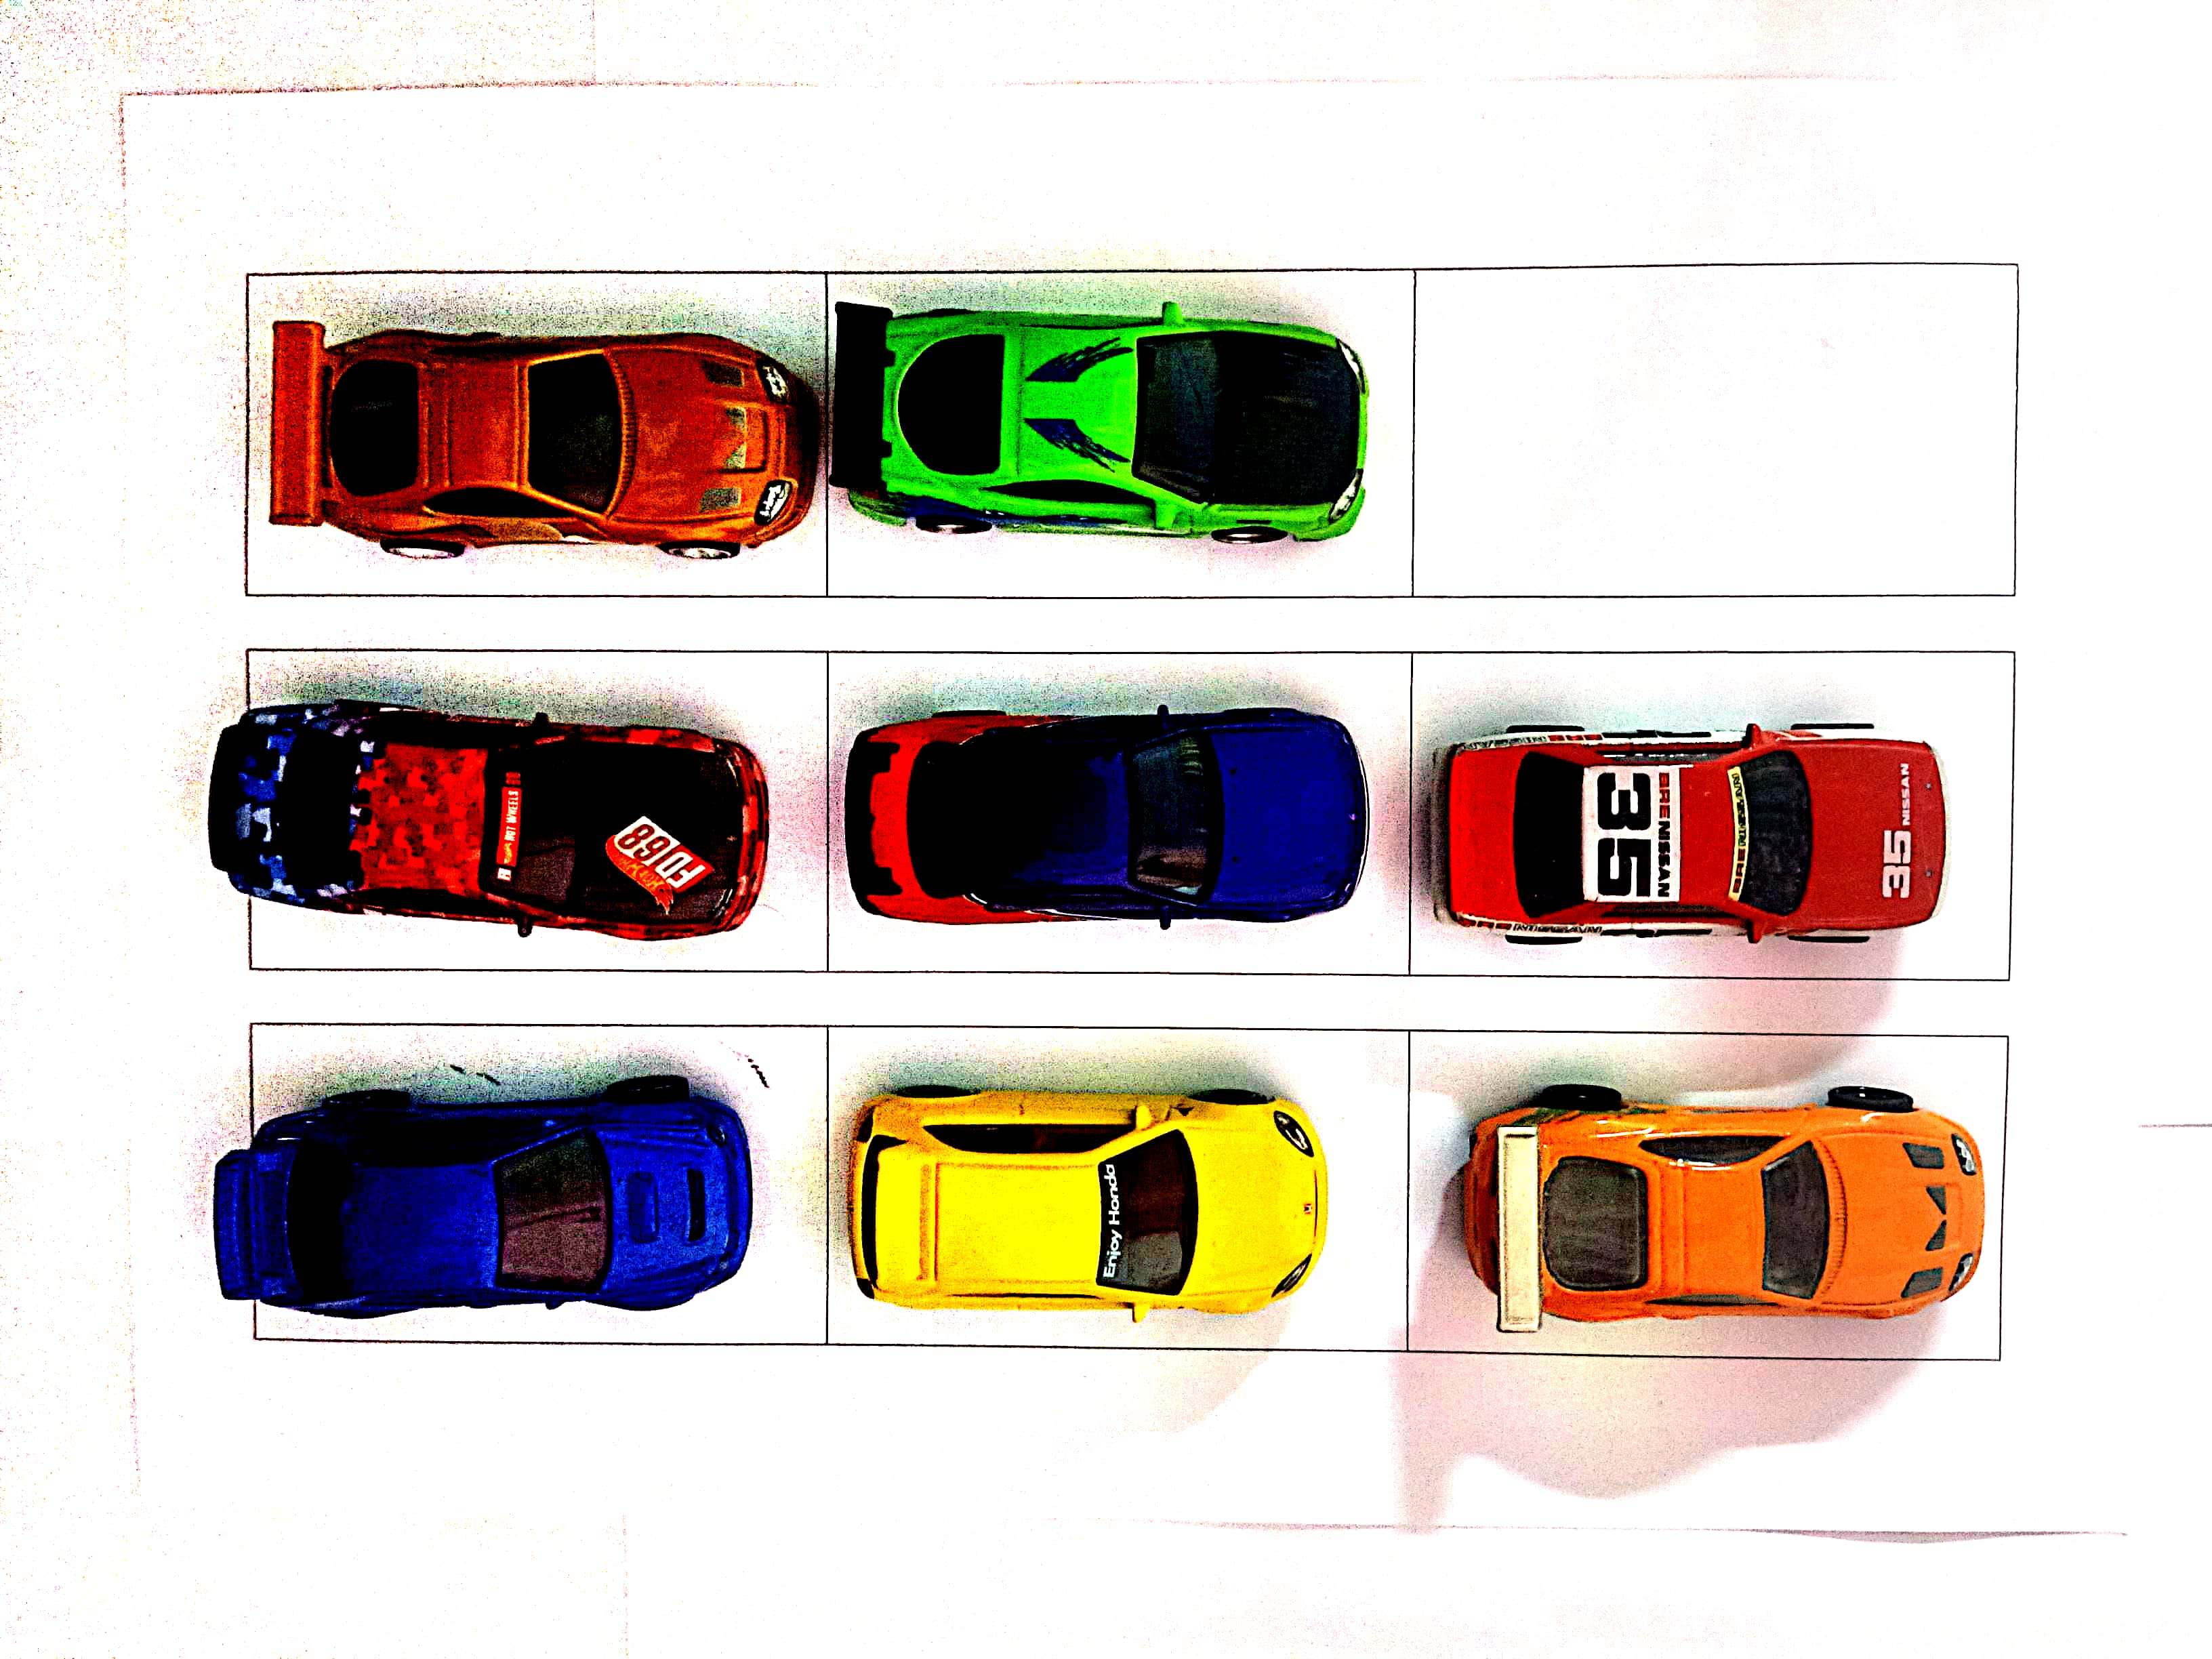Busy: (1407, 653, 2017, 972), (824, 272, 1413, 601), (247, 1025, 827, 1345), (829, 1030, 1402, 1351), (829, 650, 1407, 967), (1404, 1044, 2001, 1351), (247, 274, 824, 591), (249, 653, 827, 965)
Free: (1414, 268, 2017, 591)
